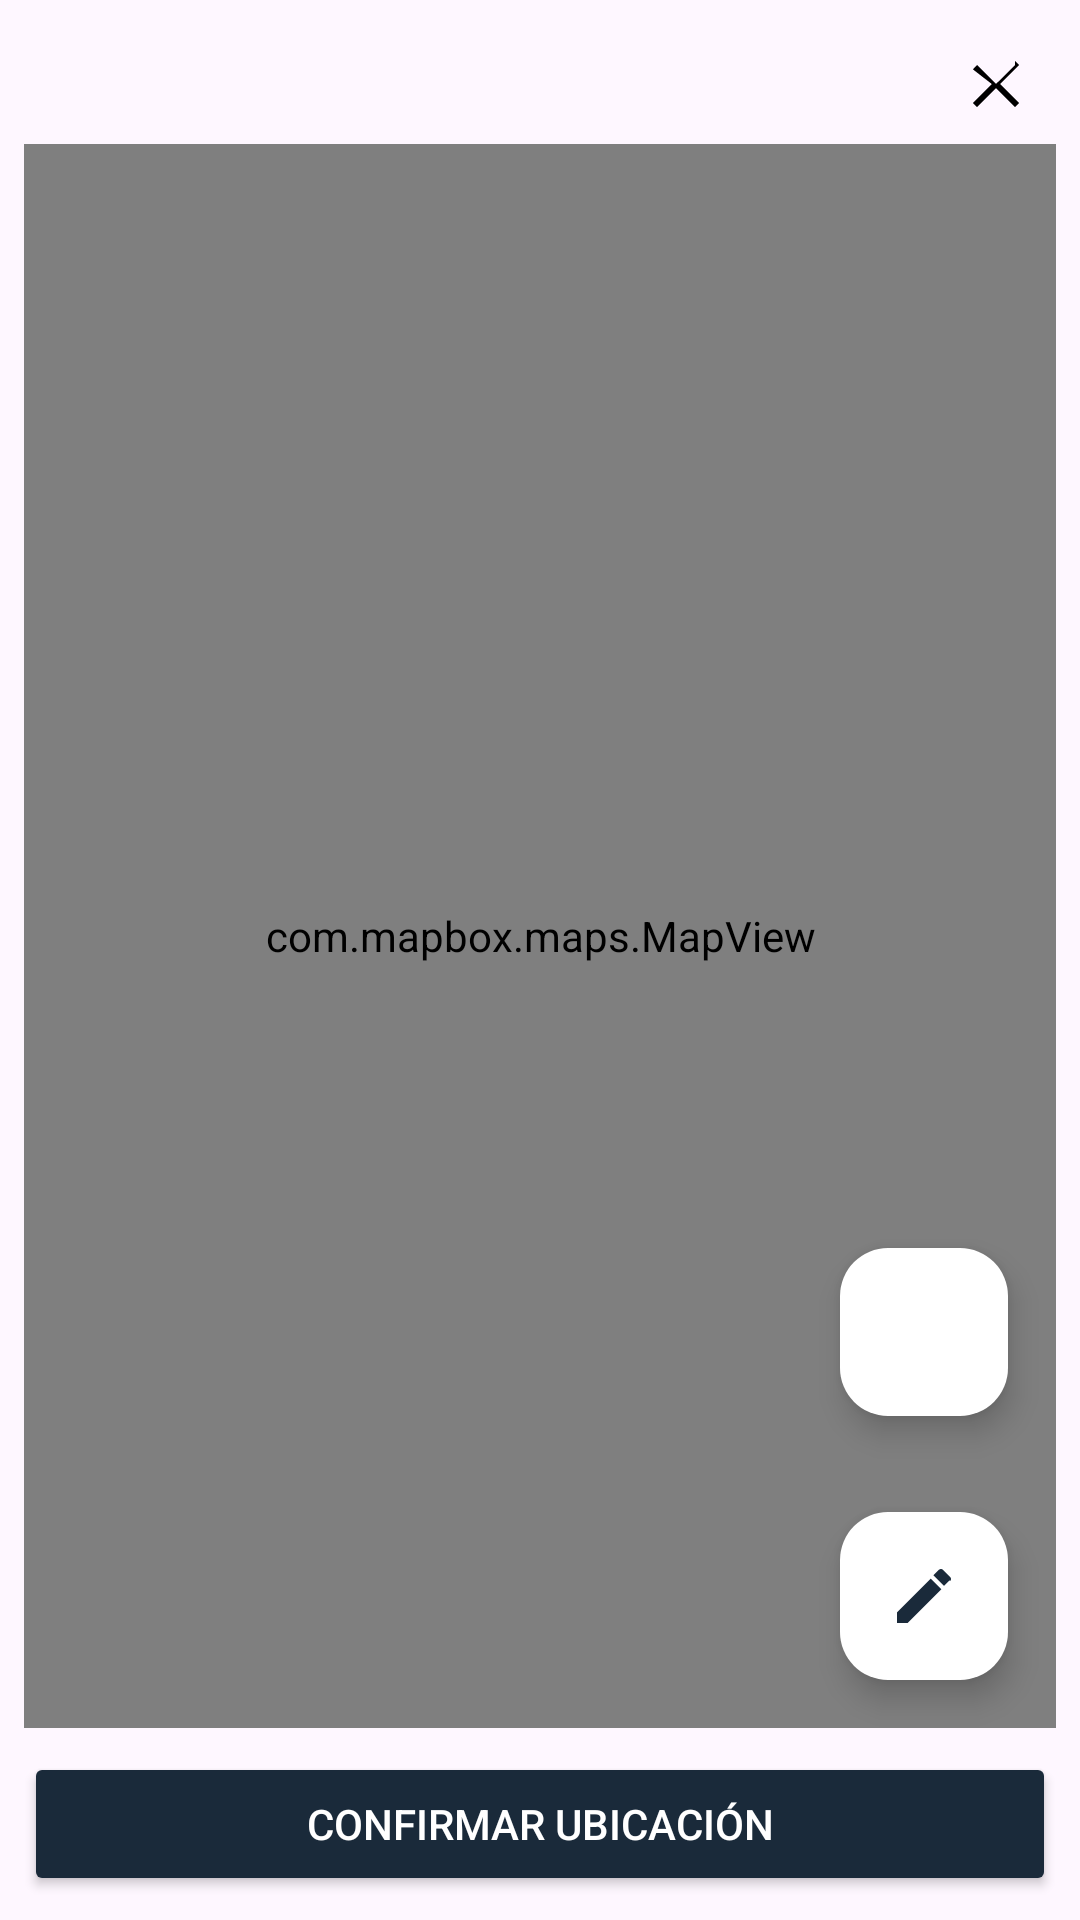

Icons on this 1080*1920 Android screen, each with its box as (x1, y1, x2, y2):
close: (973, 61, 1019, 107)
edit: (840, 1512, 1008, 1680)
